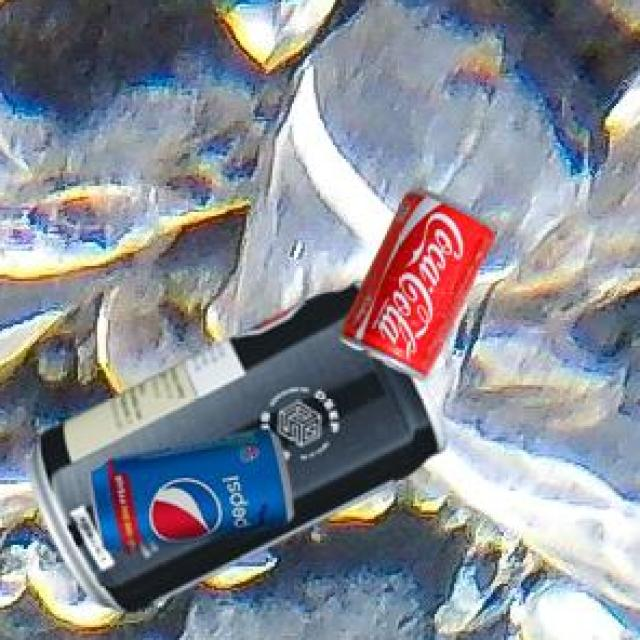logam: (34, 284, 446, 615), (343, 191, 498, 384), (94, 434, 297, 555)
